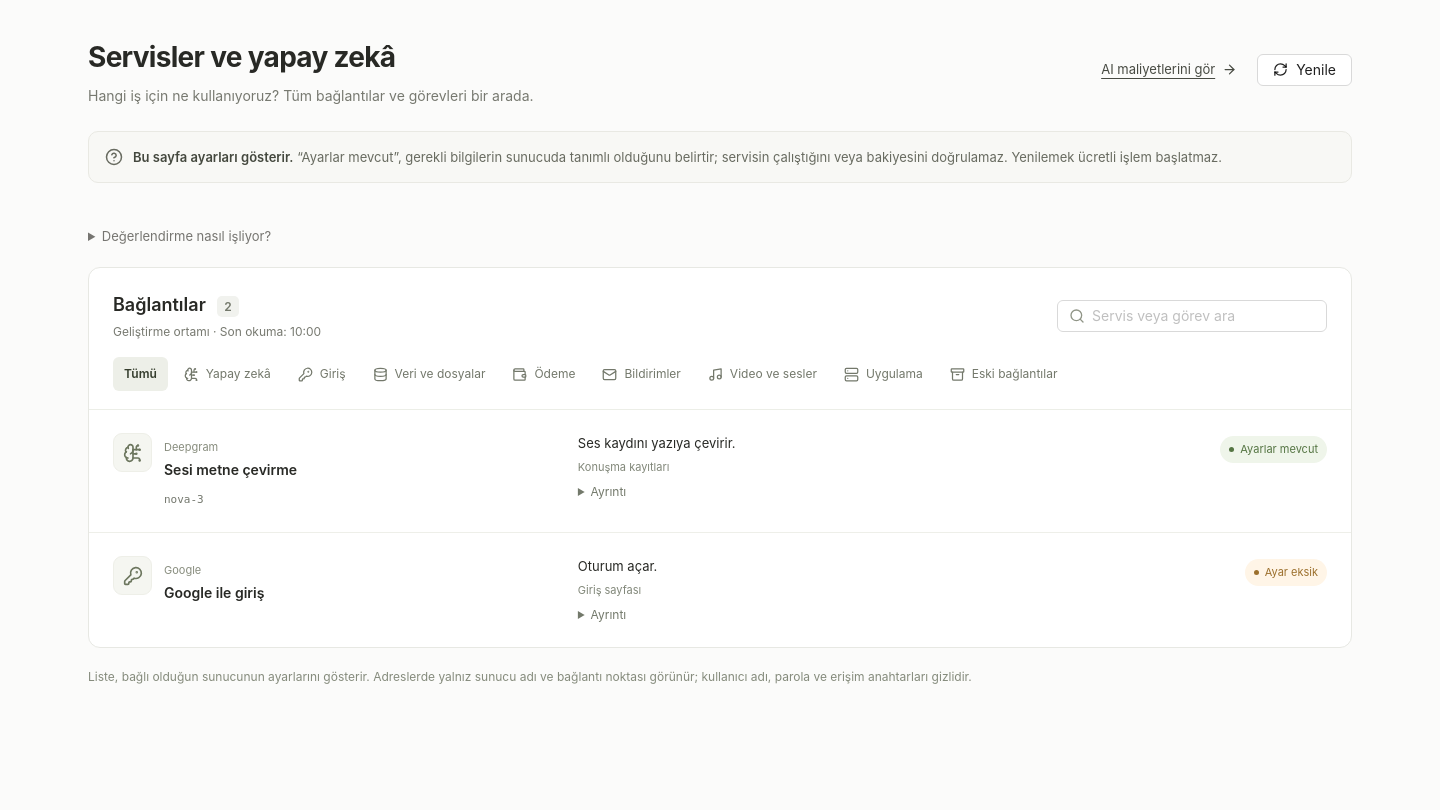
Scenario: service inventory › has distinct loading and no-match states
Type "bulunmayan" into the field named "Servis ara". click: {"x": 1196, "y": 316}
box: [1092,305,1299,327]
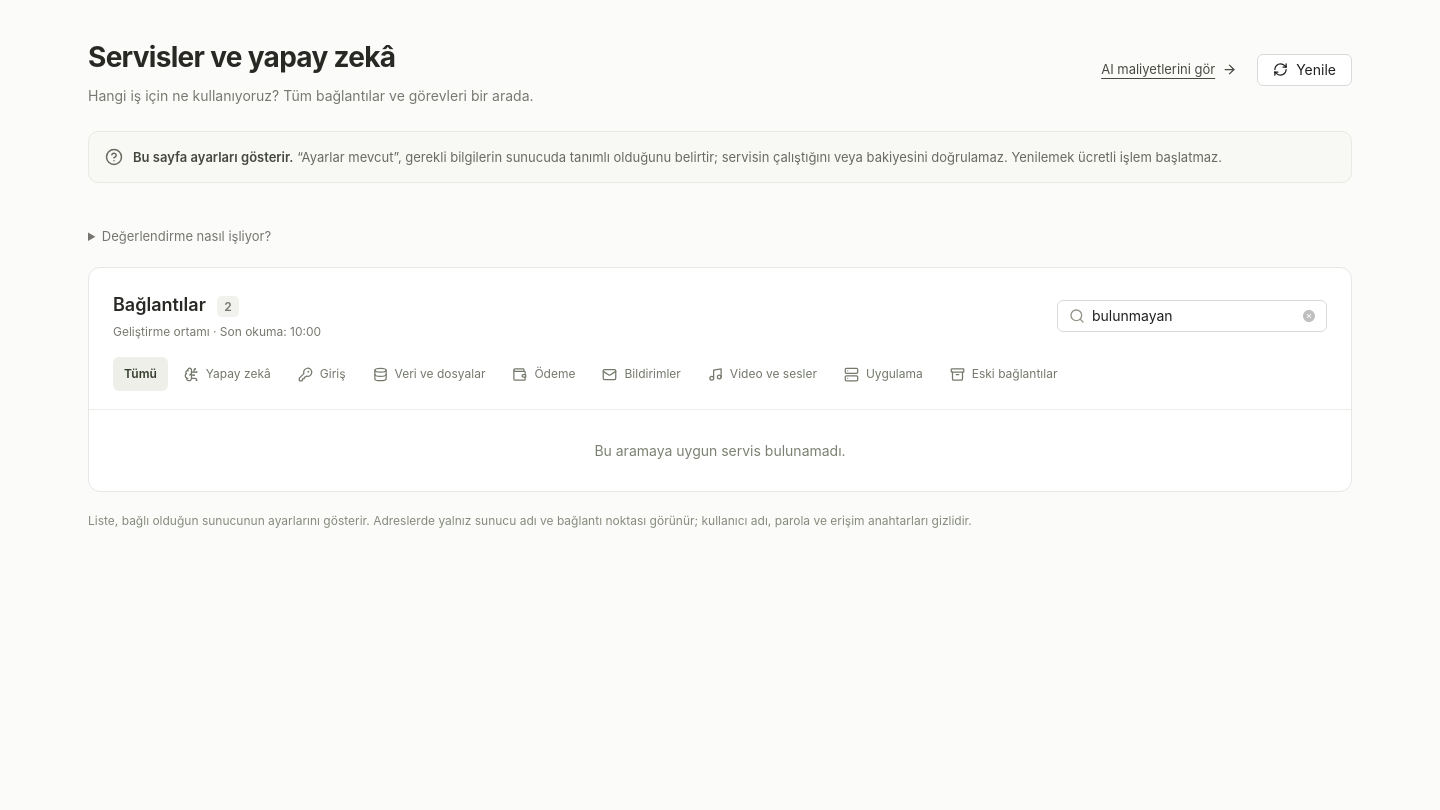
Expected: the text "Bu aramaya uygun servis bulunamadı." is shown, [594,442,846,459]
